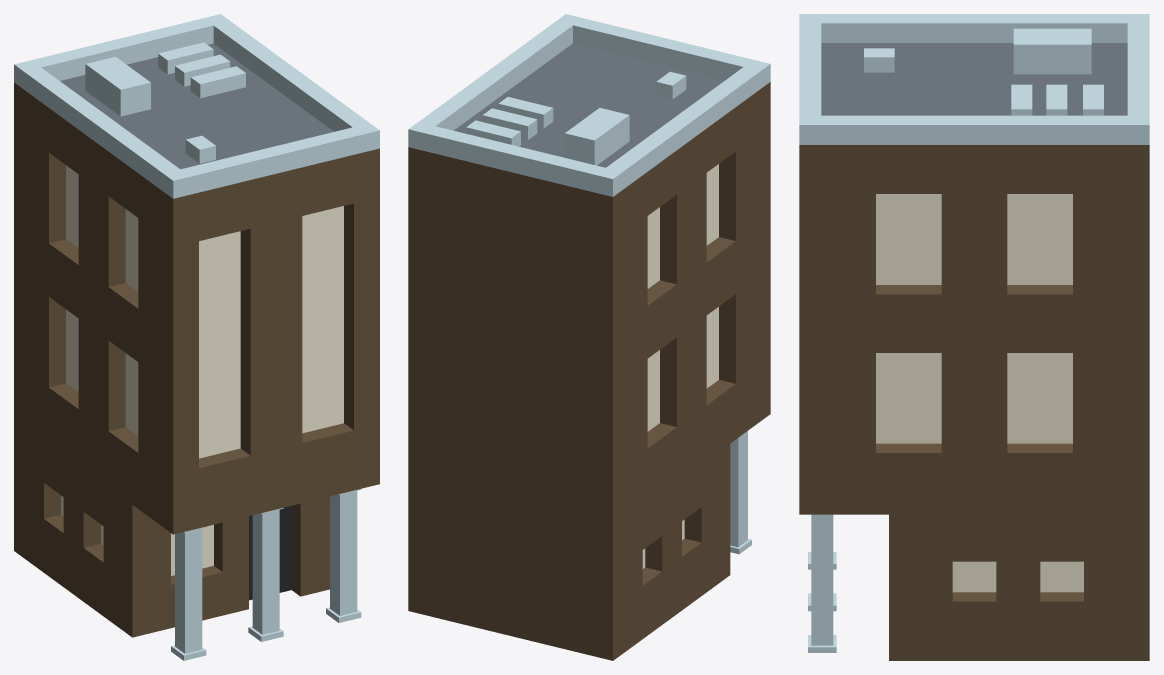
Rendered from Building_9_Extra (Brown).obj.
3 renders of one model, left to right at view 1: azimuth 30°, elevation 25°; view 2: azimuth 150°, elevation 25°; view 3: azimuth 270°, elevation 25°, orthographic. The views are drawn at different scales.
Parts seen in each view (by area): view 1: Building_9_Extra_(Brown); view 2: Building_9_Extra_(Brown); view 3: Building_9_Extra_(Brown).
Part boxes in pixels (box(x1,y1,x2,y2)): Building_9_Extra_(Brown): box(14, 14, 379, 660); Building_9_Extra_(Brown): box(408, 14, 770, 660); Building_9_Extra_(Brown): box(799, 14, 1149, 660).
Size of the model in its own units: 1.2 by 2.75 by 1.6.
